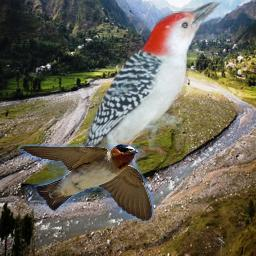Swallow: (18, 144, 154, 222)
Woodpecker: (59, 2, 222, 214)
